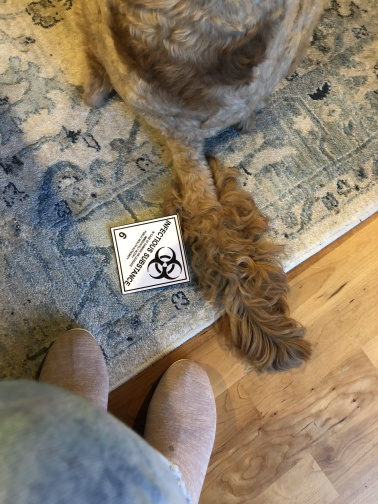InfectiousSubstance: (110, 215, 191, 294)
